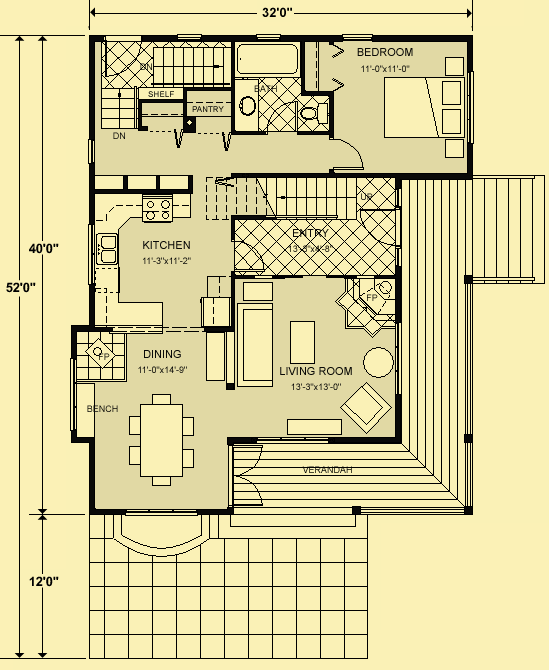bathroom has a tub, small and large sink: (230, 35, 336, 136)
kitchen has a twin sink, cooking range and kitchen counter: (88, 189, 233, 335)
the hall has a dining table and other sitting facility: (72, 327, 232, 522)
there is a bedroom which has a double bed and bedside stand: (329, 34, 477, 180)
there is a livingroom which has a large sofa, two small sofas and other tables: (233, 276, 405, 443)
